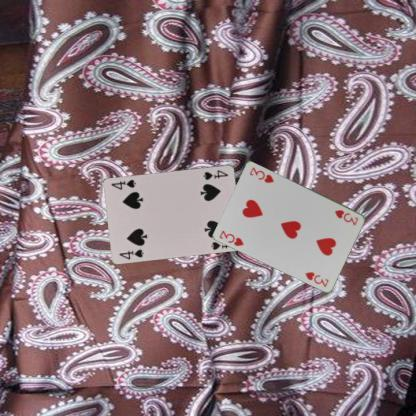3h: (332, 206, 360, 226), (218, 228, 245, 248)
4s: (116, 246, 146, 260), (201, 167, 230, 181)
